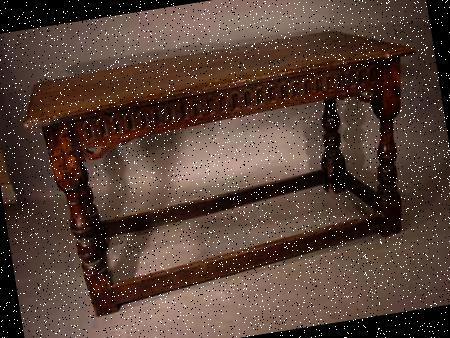Mesa: (18, 17, 449, 331)
